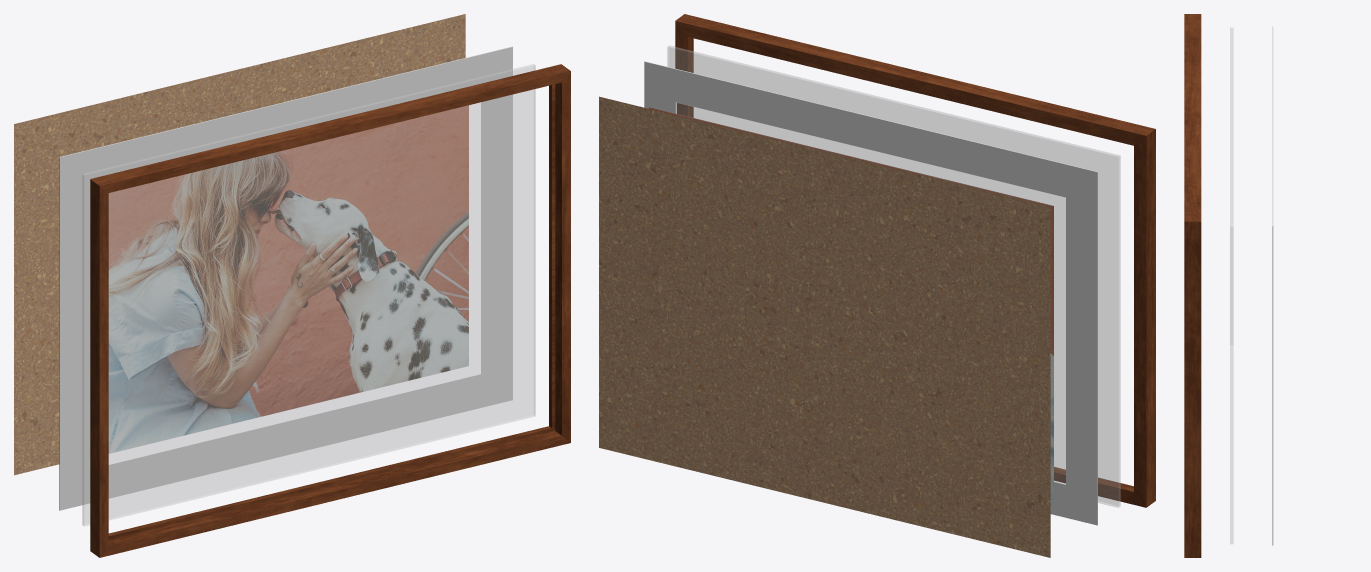
File: complex.glb
3 renders of one model, left to right at view 1: azimuth 30°, elevation 25°; view 2: azimuth 150°, elevation 25°; view 3: azimuth 270°, elevation 25°, orthographic. The views are drawn at different scales.
Visible parts, largest first — view 1: Acrylic, Motif, Passepartout, Back, Frame; view 2: Back, Passepartout, Acrylic, Frame, Motif; view 3: Frame, Acrylic, Passepartout.
Part boxes in pixels (left/top/right/bottom): Acrylic: left=82, top=64, right=535, bottom=526; Motif: left=108, top=105, right=468, bottom=453; Passepartout: left=59, top=46, right=512, bottom=510; Back: left=14, top=14, right=465, bottom=475; Frame: left=90, top=64, right=570, bottom=557; Back: left=599, top=96, right=1050, bottom=557; Passepartout: left=644, top=61, right=1097, bottom=525; Acrylic: left=667, top=45, right=1120, bottom=507; Frame: left=675, top=14, right=1155, bottom=507; Motif: left=649, top=107, right=1053, bottom=508; Frame: left=1184, top=14, right=1201, bottom=557; Acrylic: left=1230, top=28, right=1233, bottom=543; Passepartout: left=1272, top=26, right=1273, bottom=545.
Bounding box in the file's own units: 0.8143 × 0.6143 × 0.2856.
5 materials, 3 textured.
